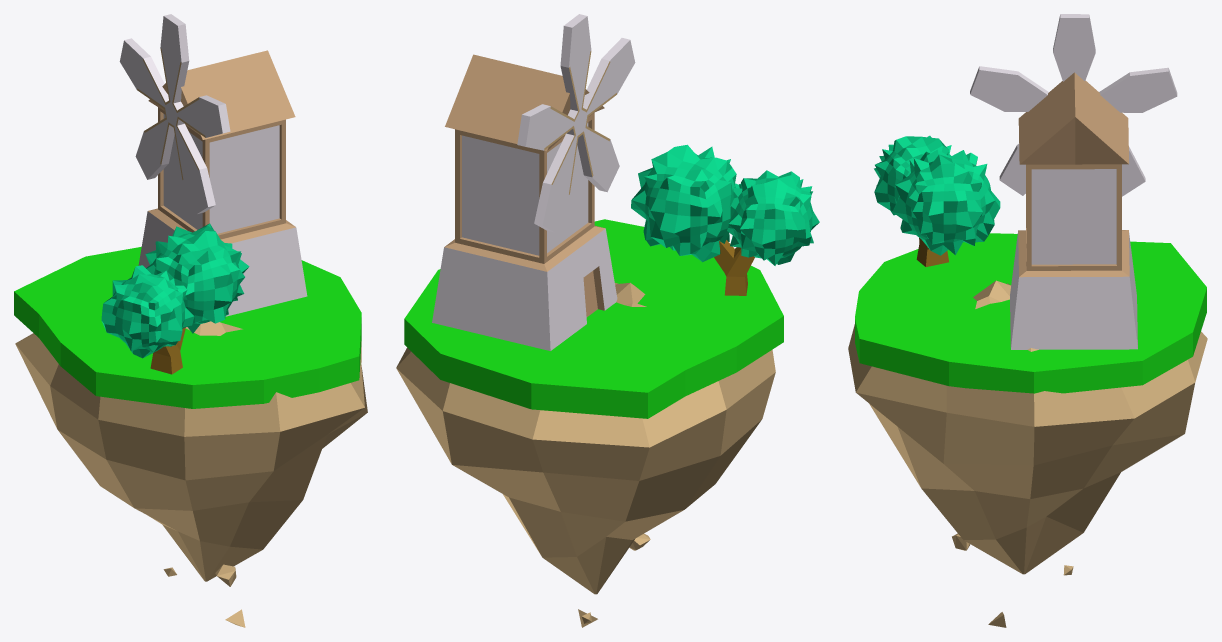
File: mill.glb
3 renders of one model, left to right at view 1: azimuth 30°, elevation 25°; view 2: azimuth 150°, elevation 25°; view 3: azimuth 270°, elevation 25°, orthographic. The views are drawn at different scales.
Parts seen in each view (by area): view 1: Island, Green_platform, Mill, Tree, propeller; view 2: Island, Green_platform, Mill, Tree, propeller; view 3: Island, Green_platform, Mill, Tree, propeller.
Part boxes in pixels (x1=…): Island: x1=15, y1=321, x2=367, y2=627; Green_platform: x1=14, y1=247, x2=361, y2=408; Mill: x1=138, y1=50, x2=307, y2=316; Tree: x1=101, y1=223, x2=249, y2=374; propeller: x1=119, y1=14, x2=230, y2=213; Island: x1=396, y1=282, x2=775, y2=627; Green_platform: x1=404, y1=219, x2=783, y2=418; Mill: x1=432, y1=54, x2=617, y2=350; Tree: x1=631, y1=144, x2=819, y2=295; propeller: x1=517, y1=14, x2=635, y2=232; Island: x1=848, y1=280, x2=1207, y2=627; Green_platform: x1=855, y1=233, x2=1206, y2=393; Mill: x1=1010, y1=72, x2=1137, y2=349; Tree: x1=874, y1=135, x2=1000, y2=266; propeller: x1=970, y1=14, x2=1177, y2=196.
Size of the model in its own units: 1.02 by 1.95 by 1.06.
